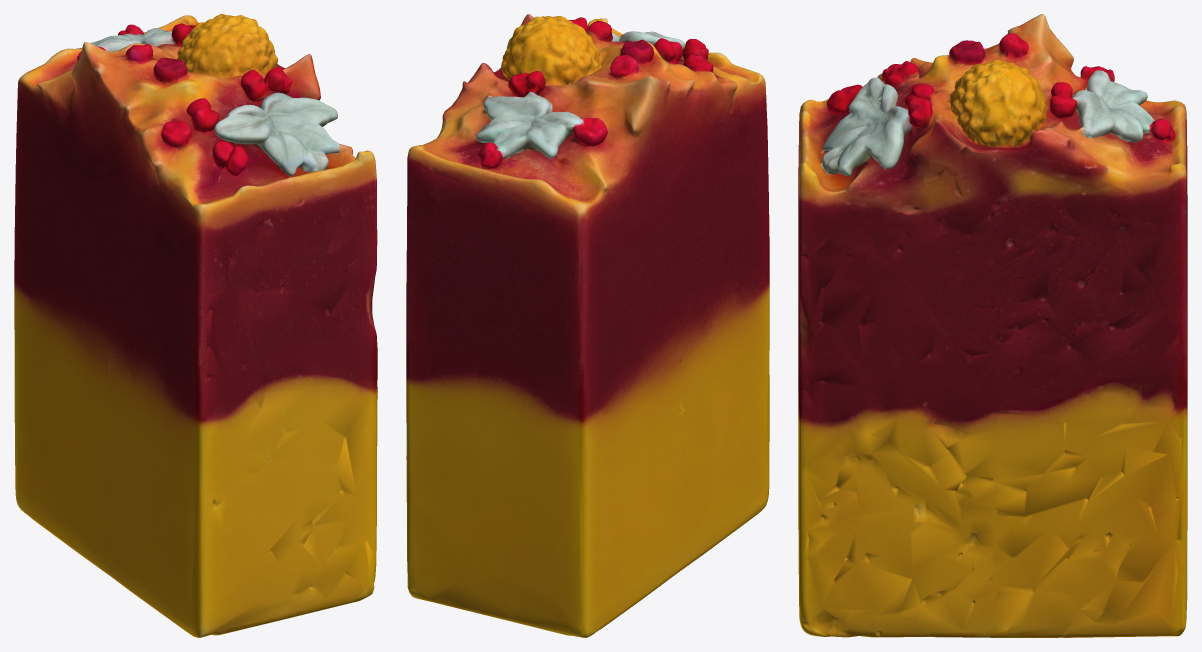
Rendered from fireside-bar.glb.
3 views of the same model, side by side, from view 1: azimuth 30°, elevation 25°; view 2: azimuth 150°, elevation 25°; view 3: azimuth 270°, elevation 25° (orthographic). The views are drawn at different scales.
Parts seen in each view (by area): view 1: tripo_node_726a4f29-aacb-4f53-bbeb-1401e19a14fc; view 2: tripo_node_726a4f29-aacb-4f53-bbeb-1401e19a14fc; view 3: tripo_node_726a4f29-aacb-4f53-bbeb-1401e19a14fc.
Boxes of the visible parts, box(x1,y1,x2,y2) form: tripo_node_726a4f29-aacb-4f53-bbeb-1401e19a14fc: box(14, 14, 377, 637); tripo_node_726a4f29-aacb-4f53-bbeb-1401e19a14fc: box(406, 14, 769, 637); tripo_node_726a4f29-aacb-4f53-bbeb-1401e19a14fc: box(798, 14, 1187, 637).
Size of the model in its own units: 0.3766 by 0.9993 by 0.6426.
Materials: 1 (1 with a texture image).
